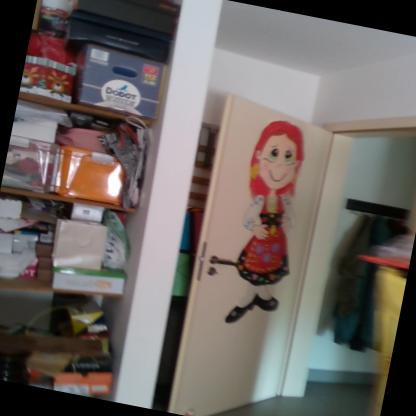open: (128, 63, 415, 415)
